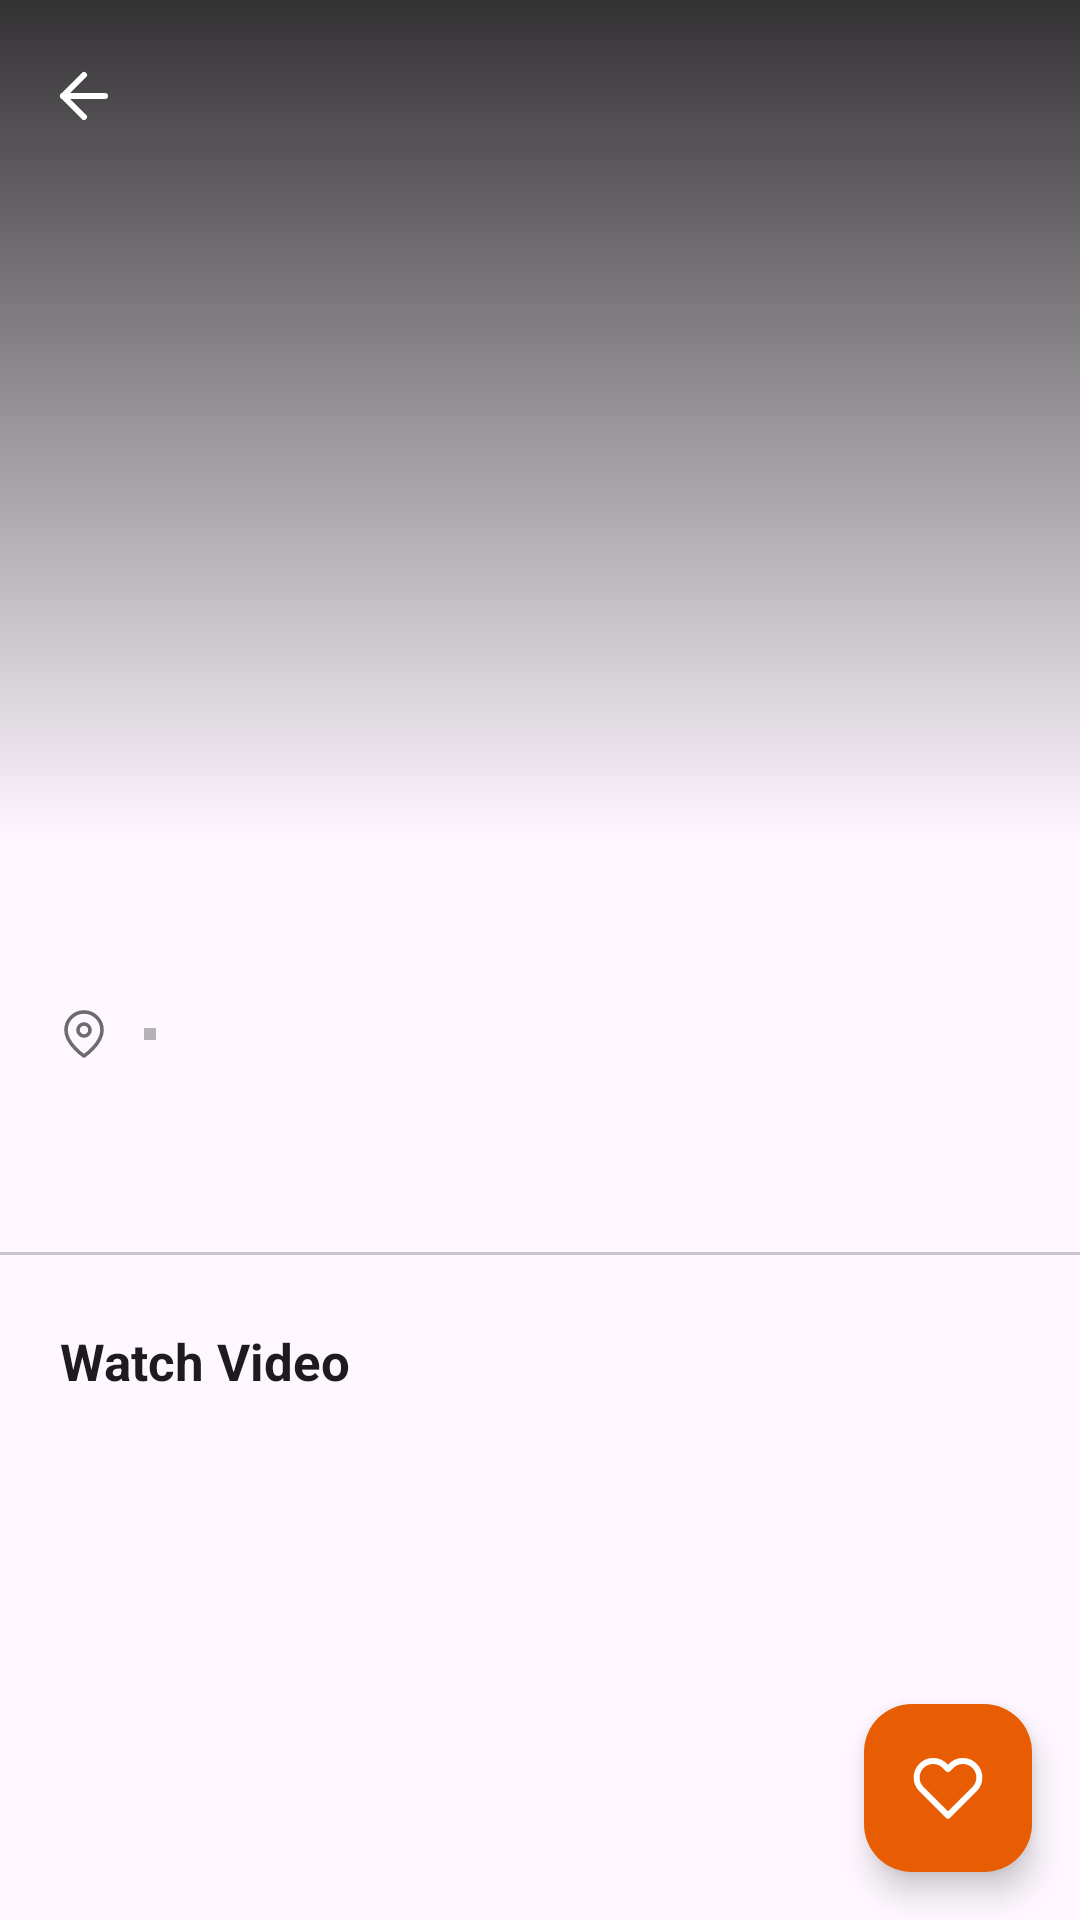

Named icons in this screenshot (1080w x 1920h) and their centers, (x=x, y=y):
location: (x=84, y=1034)
Toggle favorite: (x=948, y=1788)
